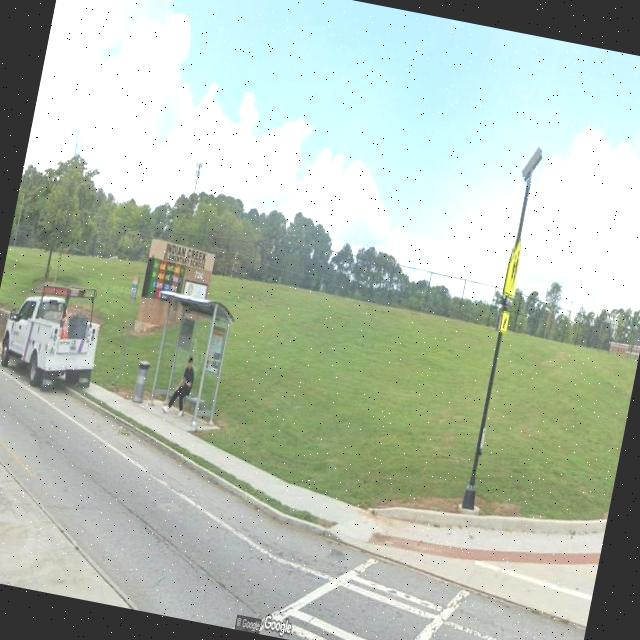seating: (168, 388, 206, 424)
shelter: (137, 288, 238, 434)
trash_can: (131, 359, 151, 403)
